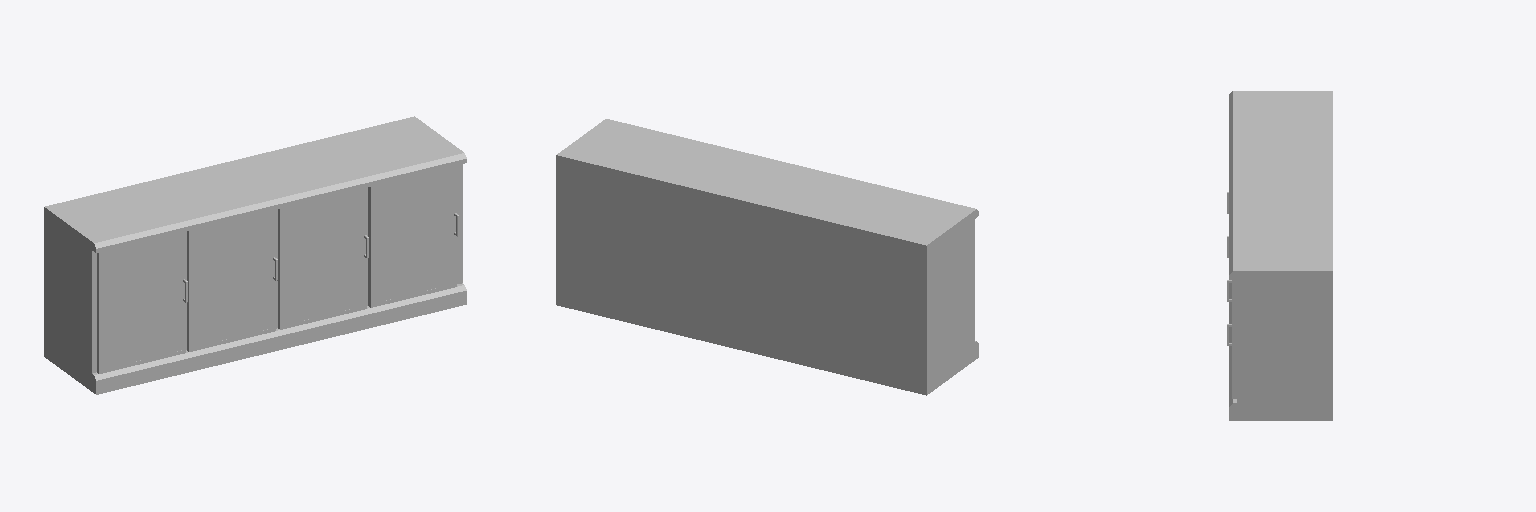
The model's file is refrigerator.obj.
3 renders of one model, left to right at view 1: azimuth 30°, elevation 25°; view 2: azimuth 150°, elevation 25°; view 3: azimuth 270°, elevation 25°, orthographic.
Parts seen in each view (by area): view 1: mainframe_mainframe, window_1_window_1, window_3_window_3, window_4_window_4, window_2_window_2, door_1_door_1, door_3_door_3, door_2_door_2, door_4_door_4; view 2: mainframe_mainframe; view 3: mainframe_mainframe, door_4_door_4.
Boxes of the visible parts, box(x1,y1,x2,y2) form: mainframe_mainframe: box(44, 116, 466, 394); window_1_window_1: box(103, 234, 182, 369); window_3_window_3: box(284, 190, 363, 324); window_4_window_4: box(374, 168, 453, 302); window_2_window_2: box(193, 213, 272, 347); door_1_door_1: box(97, 232, 185, 373); door_3_door_3: box(278, 188, 366, 329); door_2_door_2: box(187, 210, 275, 351); door_4_door_4: box(368, 166, 456, 307); mainframe_mainframe: box(556, 119, 978, 395); mainframe_mainframe: box(1229, 91, 1332, 420); door_4_door_4: box(1232, 280, 1236, 398).
Size of the model in its own units: 8.2 by 3.17 by 2.03.